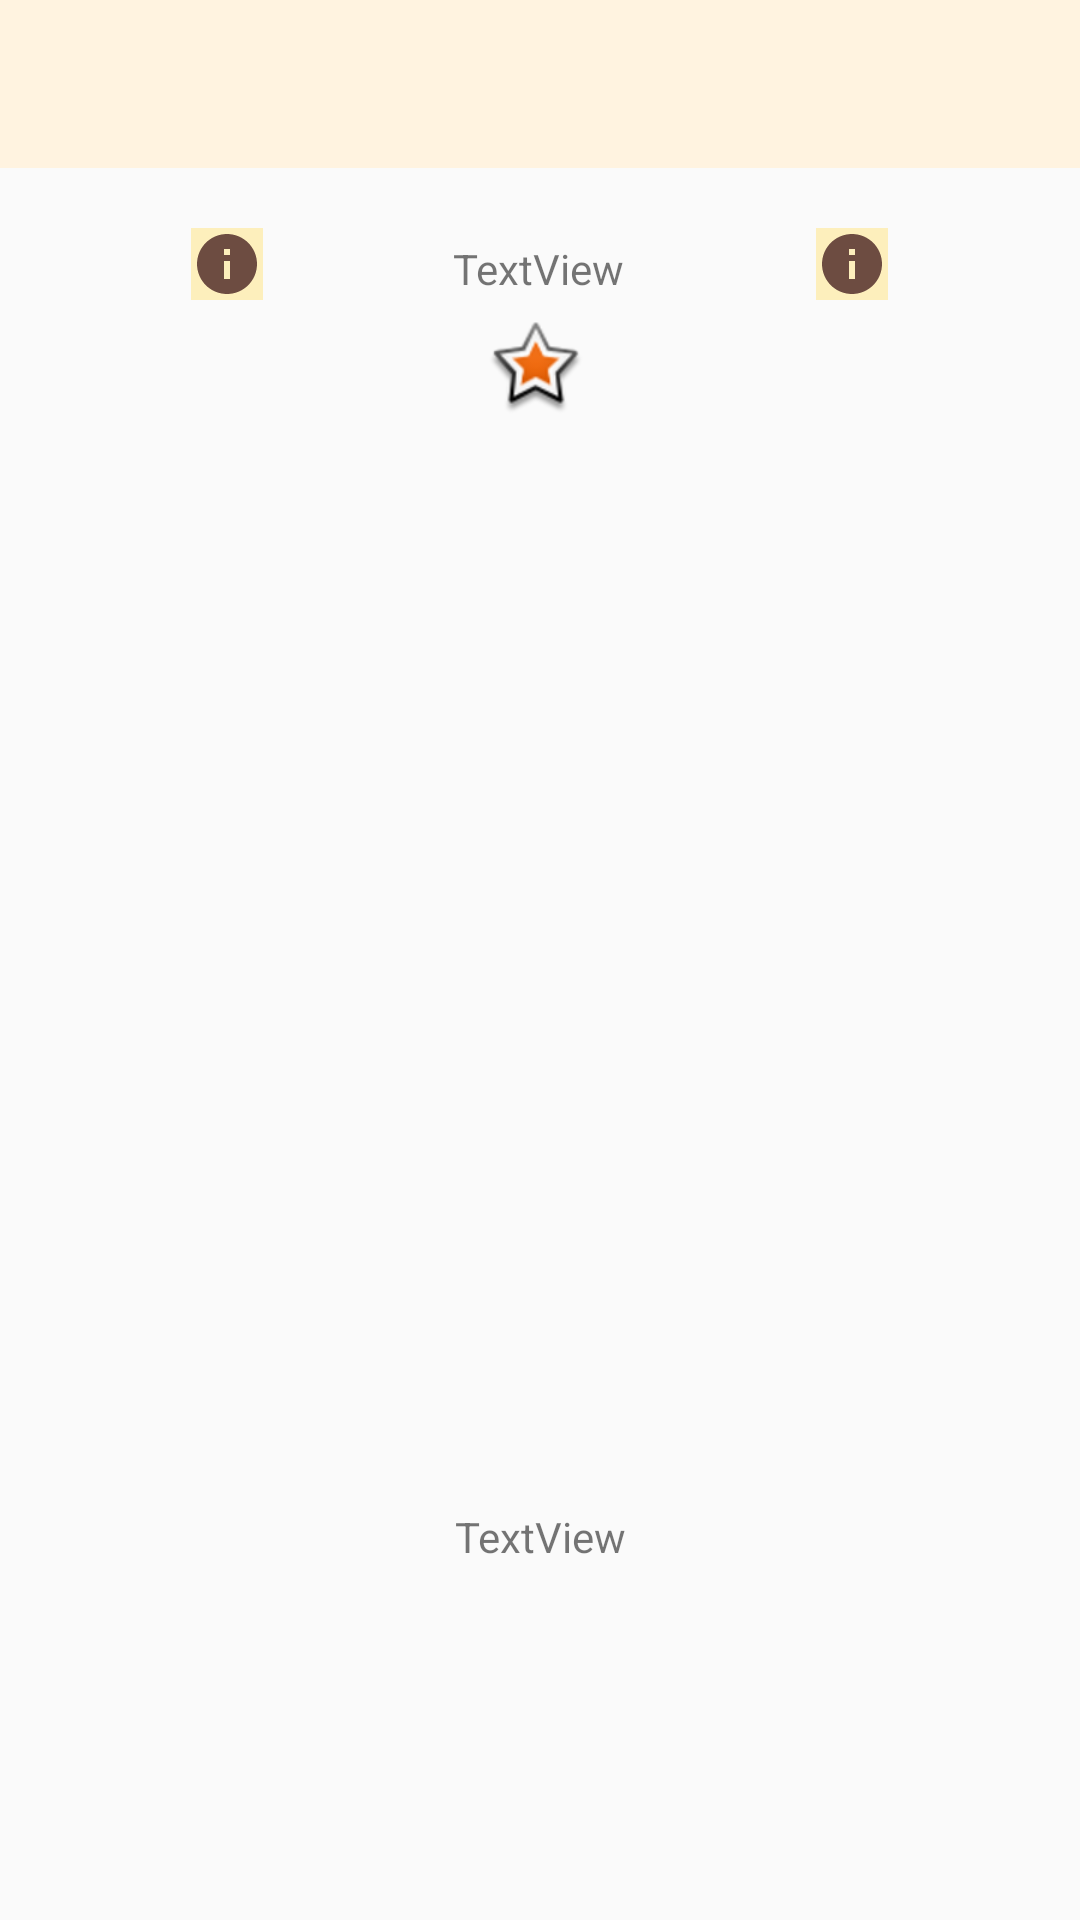

Icon bounding boxes for this 1080×1920 phone screenshot, format bbox=[x1, y1, x2, y2]:
info: bbox=[191, 228, 263, 300], bbox=[816, 228, 888, 300]
star on: bbox=[493, 322, 578, 409]
